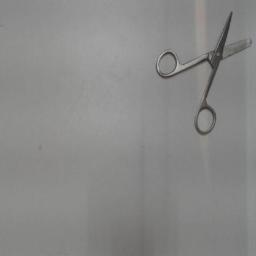Dressing Scissors: (152, 5, 254, 137)
